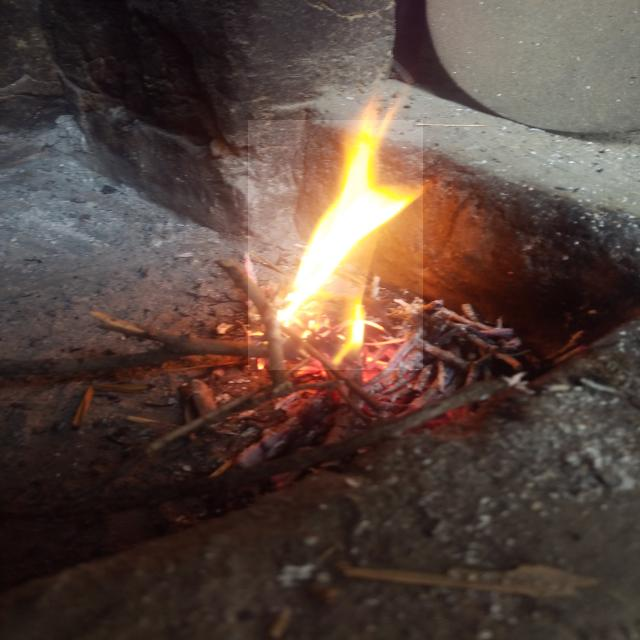Fire: (248, 120, 423, 370)
